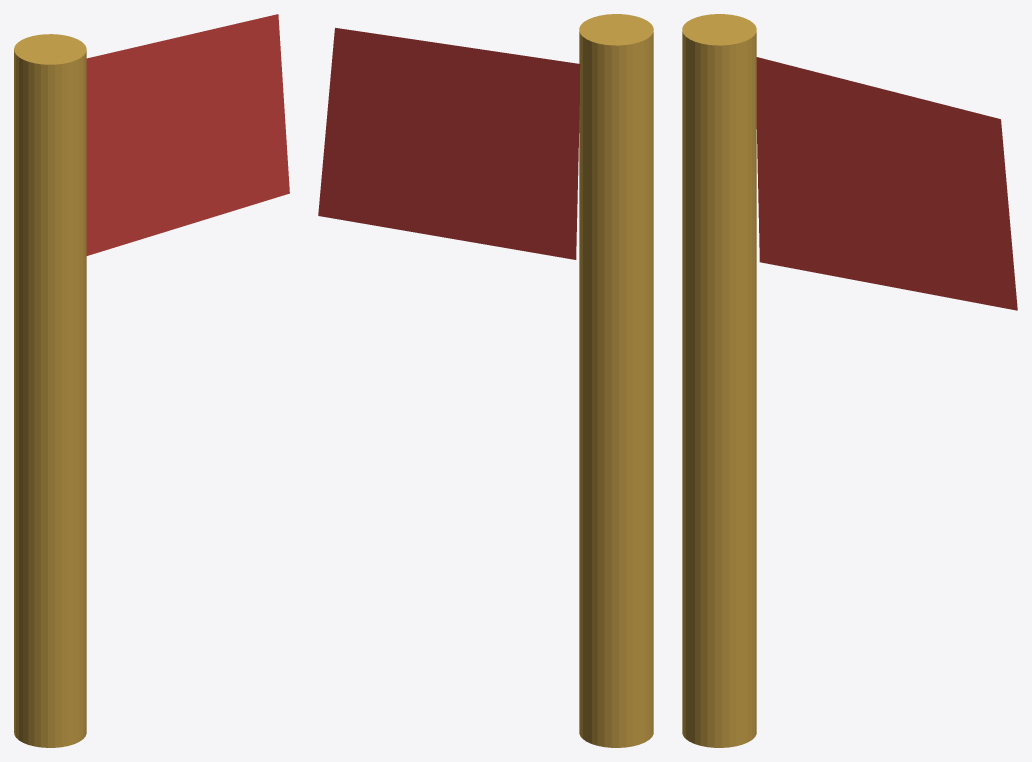
Rendered from drapeau.fbx.
The picture shows the model from 3 angles, left to right: view 1: azimuth 30°, elevation 25°; view 2: azimuth 150°, elevation 25°; view 3: azimuth 330°, elevation 25°; orthographic projection. The views are drawn at different scales.
Parts seen in each view (by area): view 1: Cylinder; view 2: Cylinder; view 3: Cylinder.
Part boxes in pixels (x1,y1,x2,y2): Cylinder: (14,14,289,747); Cylinder: (318,14,653,747); Cylinder: (682,14,1017,747).
Bounding box in the file's own units: 2.93 × 6.44 × 0.7431.
